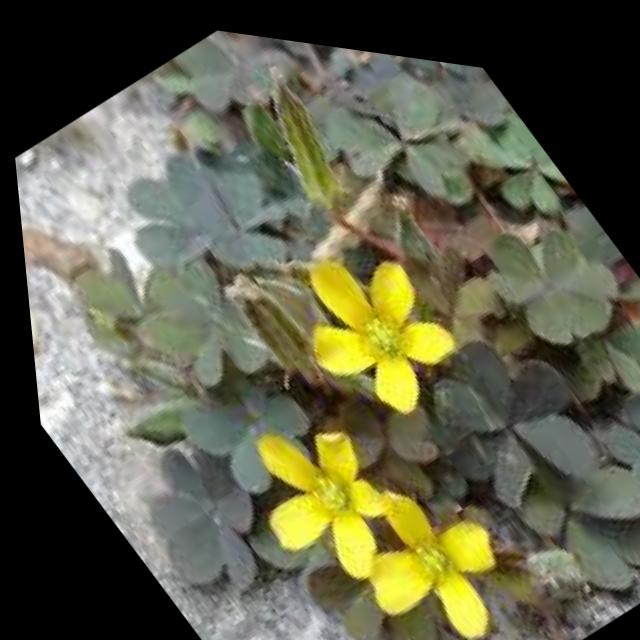Flower: (253, 189, 483, 425), (203, 368, 428, 595), (312, 445, 537, 640)
